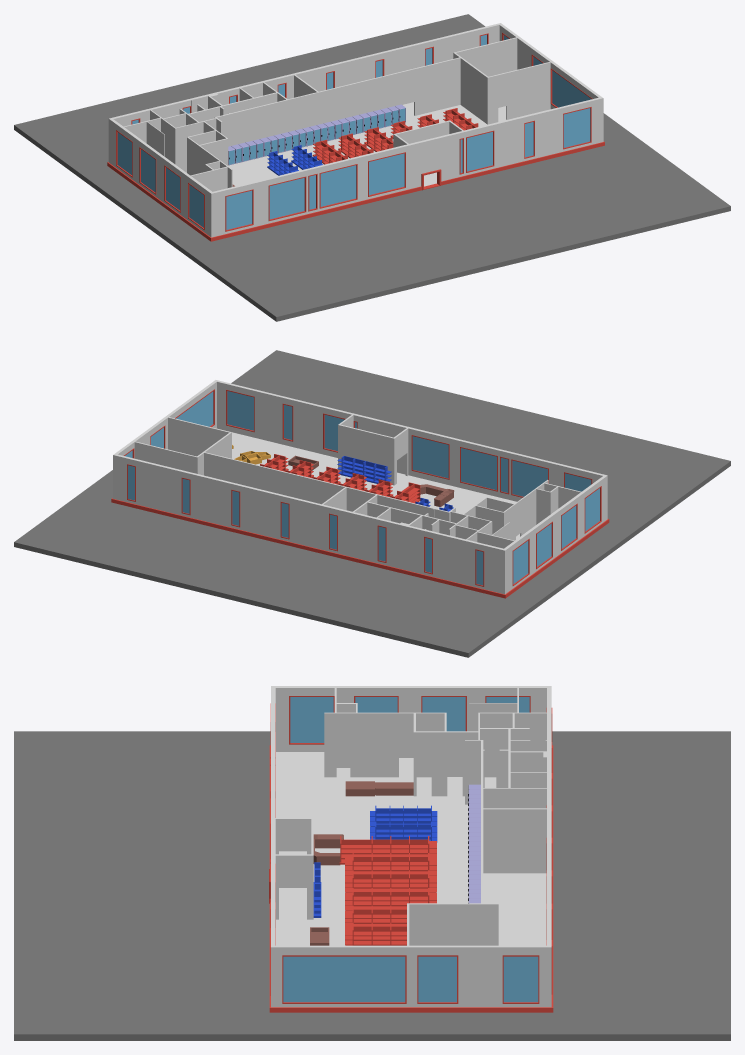
File: Supermarket2.fbx
3 views of the same model, one above another, from view 1: azimuth 30°, elevation 25°; view 2: azimuth 150°, elevation 25°; view 3: azimuth 270°, elevation 25° (orthographic). The views are drawn at different scales.
Parts seen in each view (by area): view 1: Walls.004; view 2: Walls.004; view 3: Walls.004.
Boxes of the visible parts, x1=… form: Walls.004: x1=14, y1=14, x2=730, y2=321; Walls.004: x1=14, y1=350, x2=730, y2=657; Walls.004: x1=14, y1=686, x2=730, y2=1040.
Bounding box in the file's own units: 9375 × 1027 × 9375.
